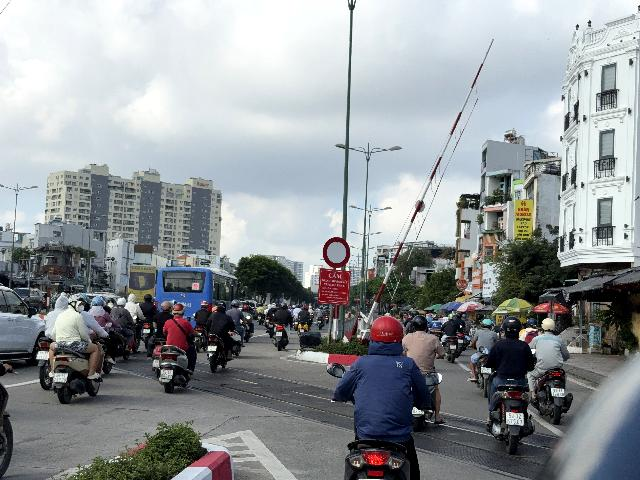duong-cam: (322, 237, 351, 269)
